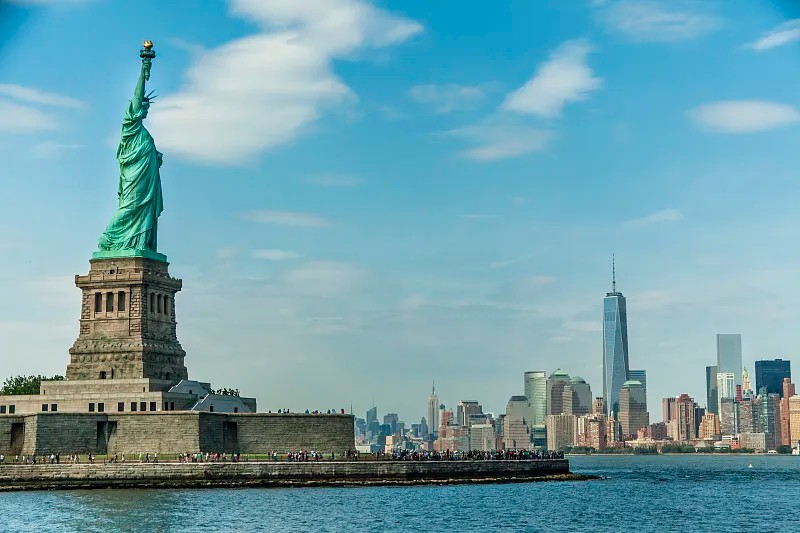SL: (64, 40, 189, 381)
